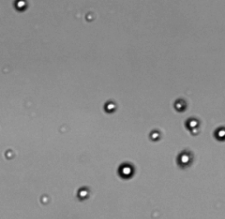Living Cell: (117, 161, 135, 180), (176, 149, 194, 166), (101, 98, 119, 114), (75, 183, 91, 201), (172, 95, 188, 112), (146, 128, 163, 141), (186, 117, 201, 131), (12, 1, 28, 12), (4, 147, 16, 160), (84, 11, 96, 23), (40, 193, 51, 205), (215, 127, 225, 140)
